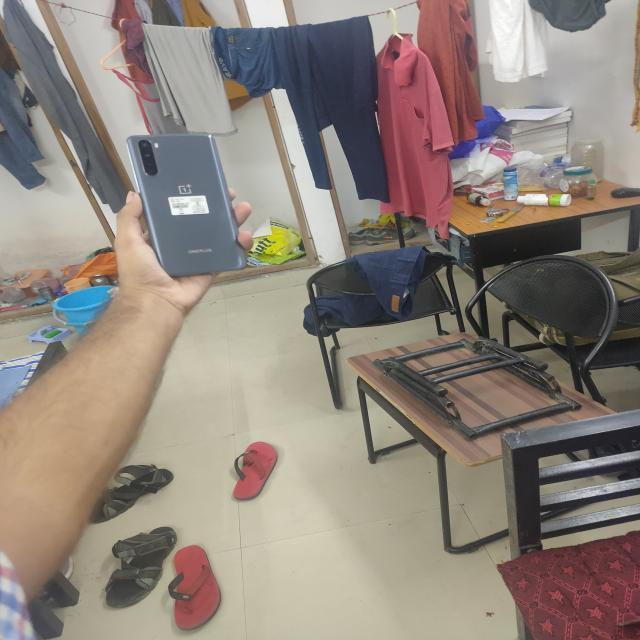Phone: (122, 132, 264, 296)
